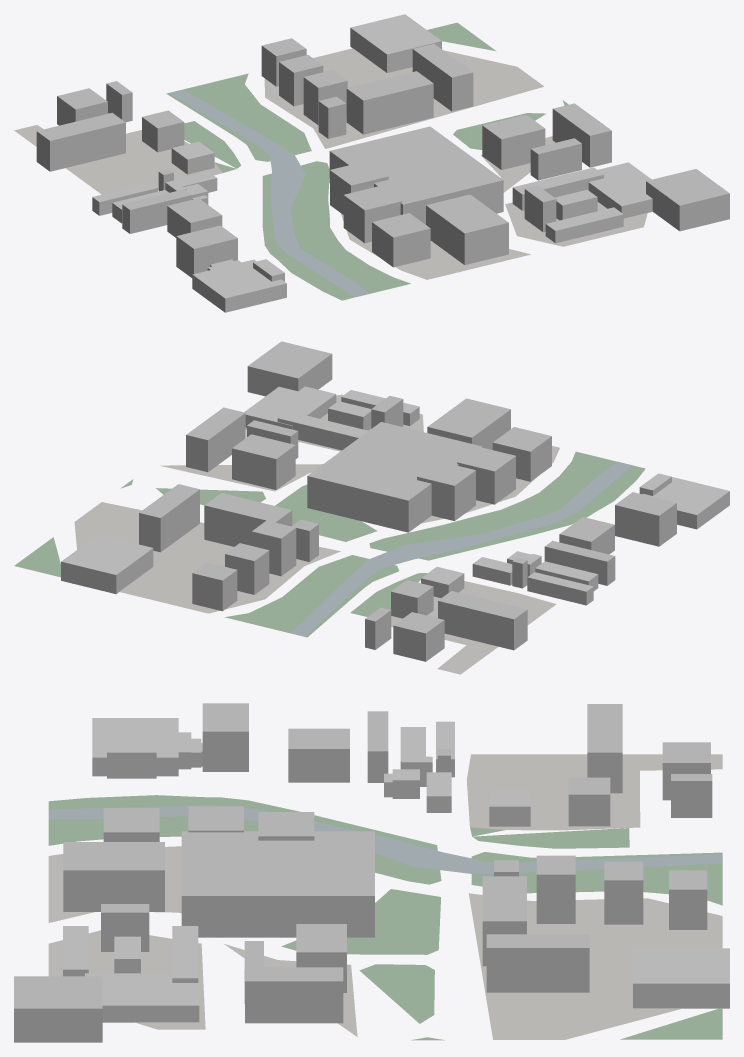
Rendered from 124_110_mid.glb.
3 renders of one model, top to bottom at view 1: azimuth 30°, elevation 25°; view 2: azimuth 150°, elevation 25°; view 3: azimuth 270°, elevation 25°, orthographic. The views are drawn at different scales.
Bounding box in the file's own units: 536 × 41.04 × 531.
